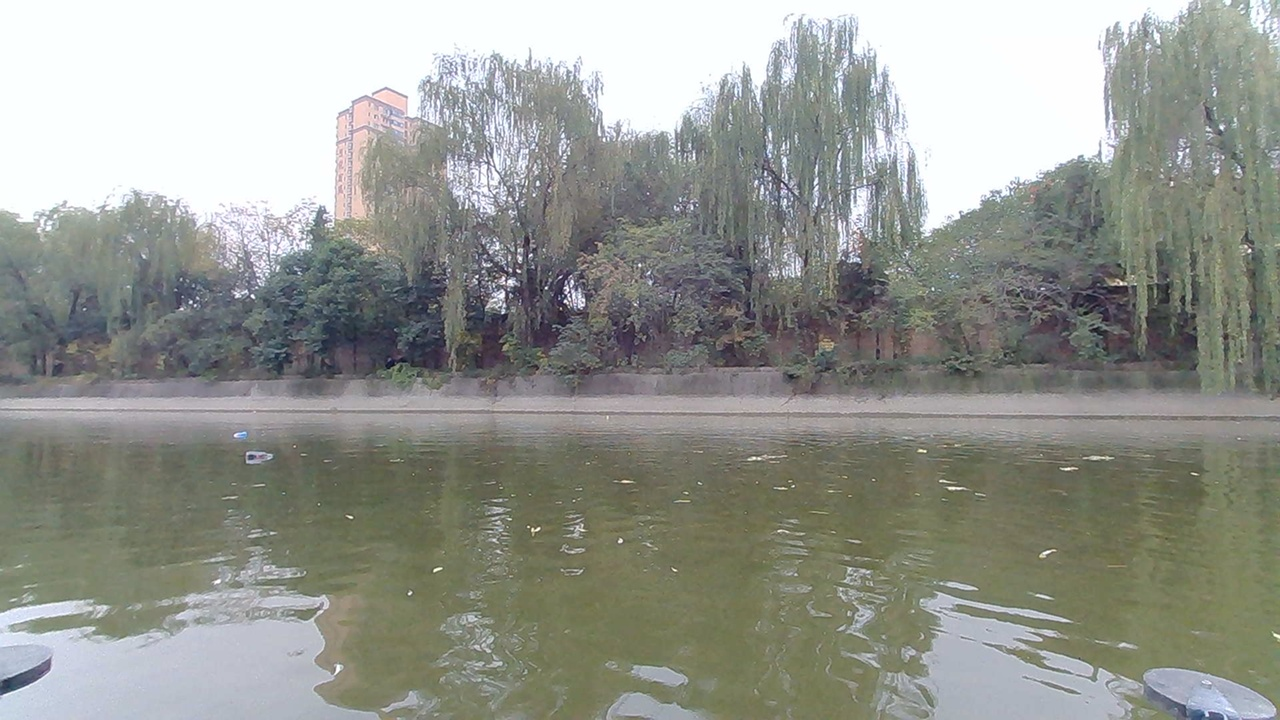bottle: (234, 441, 278, 469), (227, 422, 260, 446)
